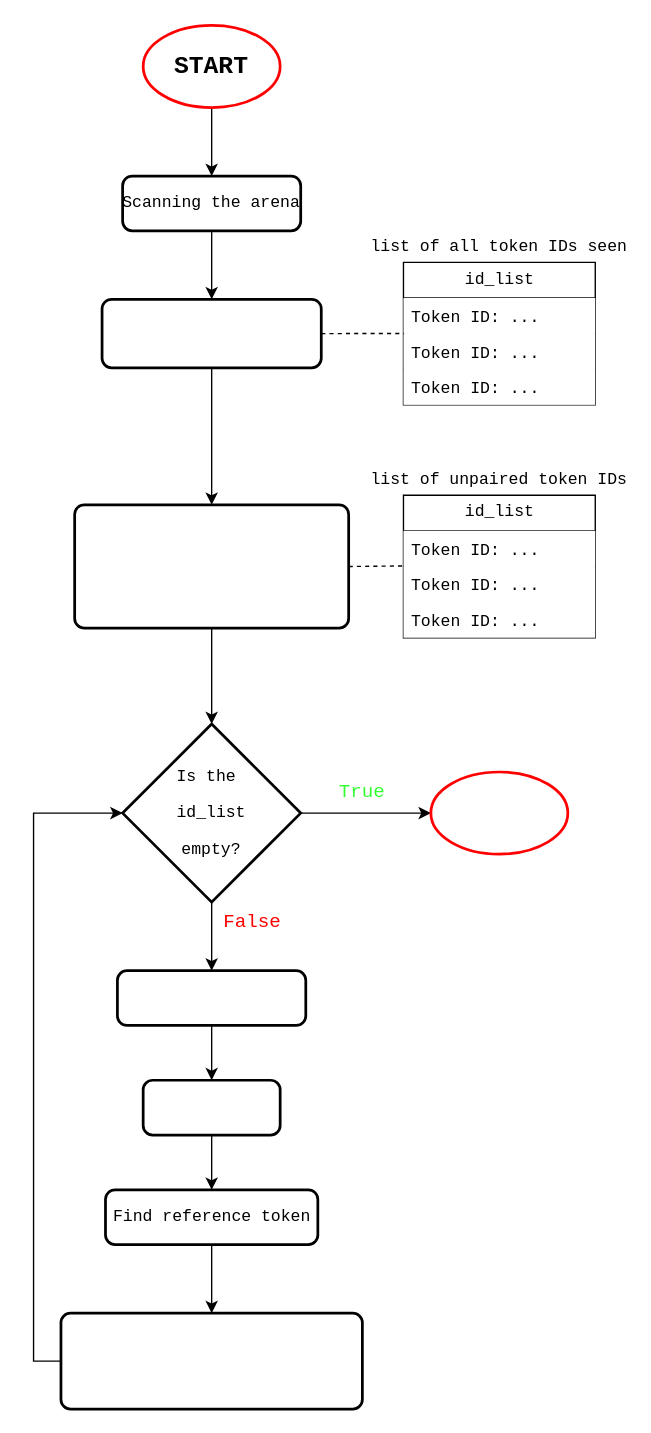
Some shapes in this 651 by 1433 pixel diagram are drawn without their labels. Here are the shapes that lost their labels. From the top down, the centre of each, then its label:
At [211,333]: "Save the IDs of token seen in the id_list".
At [211,566]: "Set the first token seen as reference token and remove its ID from id_list".
At [499,812]: "FINISH".
At [210,997]: "Find unpaired token".
At [211,1107]: "Go to grab it".
At [211,1360]: "Go to release the unpaired token near to reference token and update the id_list".
